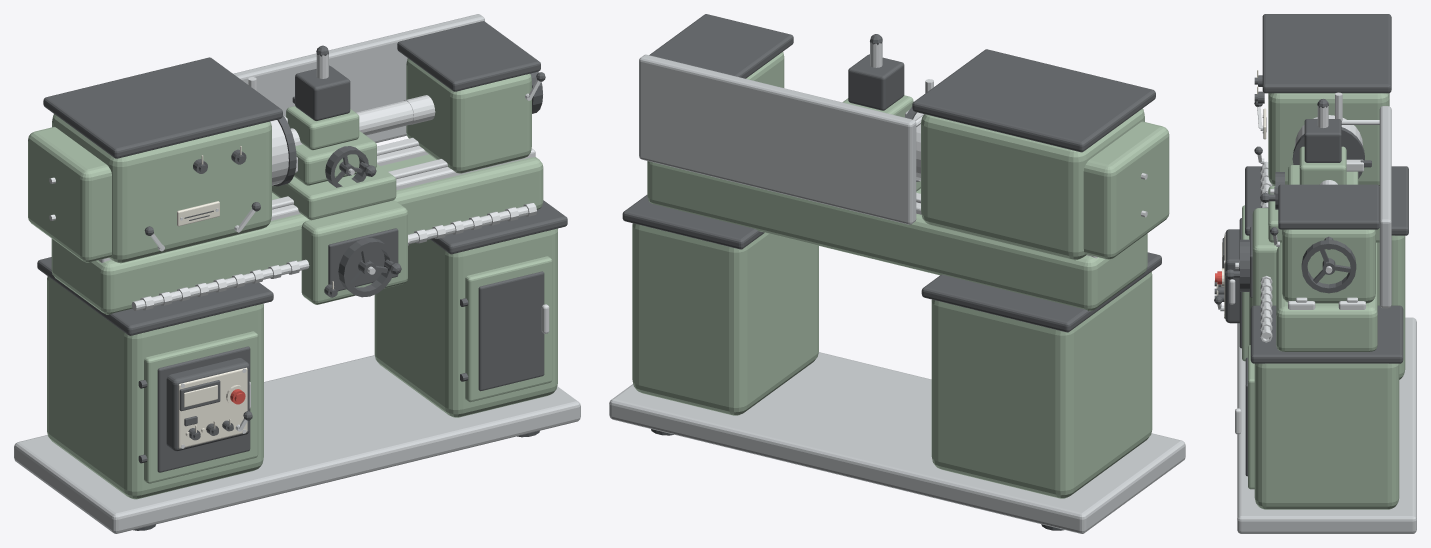
The picture shows the model from 3 angles, left to right: view 1: azimuth 30°, elevation 25°; view 2: azimuth 150°, elevation 25°; view 3: azimuth 270°, elevation 25°; orthographic projection. The views are drawn at different scales.
Parts seen in each view (by area): view 1: machine-shop-and-factory-hall-engine-lathe_3, machine-shop-and-factory-hall-engine-lathe_4, machine-shop-and-factory-hall-engine-lathe_2, carriage-travel/enamel, machine-shop-and-factory-hall-engine-lathe_1, carriage-travel/charcoal, machine-shop-and-factory-hall-engine-lathe_5, chuck-spin/steel; view 2: machine-shop-and-factory-hall-engine-lathe_3, machine-shop-and-factory-hall-engine-lathe_2, machine-shop-and-factory-hall-engine-lathe_4, carriage-travel/charcoal; view 3: machine-shop-and-factory-hall-engine-lathe_3, machine-shop-and-factory-hall-engine-lathe_4, machine-shop-and-factory-hall-engine-lathe_2, carriage-travel/enamel, carriage-travel/charcoal, machine-shop-and-factory-hall-engine-lathe_1, handwheel-spin/charcoal, chuck-spin/charcoal, carriage-travel/steel, machine-shop-and-factory-hall-engine-lathe_5, chuck-spin/steel.
Boxes of the visible parts, left/top/right/bottom form: machine-shop-and-factory-hall-engine-lathe_3: left=28, top=58, right=557, bottom=499; machine-shop-and-factory-hall-engine-lathe_4: left=37, top=21, right=567, bottom=472; machine-shop-and-factory-hall-engine-lathe_2: left=14, top=14, right=580, bottom=533; carriage-travel/enamel: left=272, top=106, right=407, bottom=304; machine-shop-and-factory-hall-engine-lathe_1: left=49, top=77, right=549, bottom=448; carriage-travel/charcoal: left=292, top=45, right=401, bottom=297; machine-shop-and-factory-hall-engine-lathe_5: left=177, top=146, right=247, bottom=448; chuck-spin/steel: left=270, top=100, right=413, bottom=185; machine-shop-and-factory-hall-engine-lathe_3: left=632, top=52, right=1169, bottom=498; machine-shop-and-factory-hall-engine-lathe_2: left=609, top=54, right=1185, bottom=533; machine-shop-and-factory-hall-engine-lathe_4: left=622, top=14, right=1161, bottom=332; carriage-travel/charcoal: left=848, top=34, right=904, bottom=110; machine-shop-and-factory-hall-engine-lathe_3: left=1242, top=93, right=1405, bottom=509; machine-shop-and-factory-hall-engine-lathe_4: left=1214, top=14, right=1408, bottom=476; machine-shop-and-factory-hall-engine-lathe_2: left=1237, top=106, right=1416, bottom=533; carriage-travel/enamel: left=1252, top=146, right=1379, bottom=305; carriage-travel/charcoal: left=1225, top=99, right=1371, bottom=297; machine-shop-and-factory-hall-engine-lathe_1: left=1217, top=92, right=1379, bottom=434; handwheel-spin/charcoal: left=1301, top=236, right=1356, bottom=293; chuck-spin/charcoal: left=1292, top=127, right=1364, bottom=178; carriage-travel/steel: left=1235, top=106, right=1363, bottom=268; machine-shop-and-factory-hall-engine-lathe_5: left=1216, top=70, right=1266, bottom=318; chuck-spin/steel: left=1294, top=115, right=1362, bottom=184.
Bounding box in the file's own units: 2.51 × 2 × 1.04.
